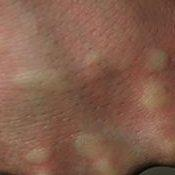Mosquito: (11, 65, 85, 107), (76, 133, 128, 174), (133, 76, 174, 111), (21, 142, 50, 164)
